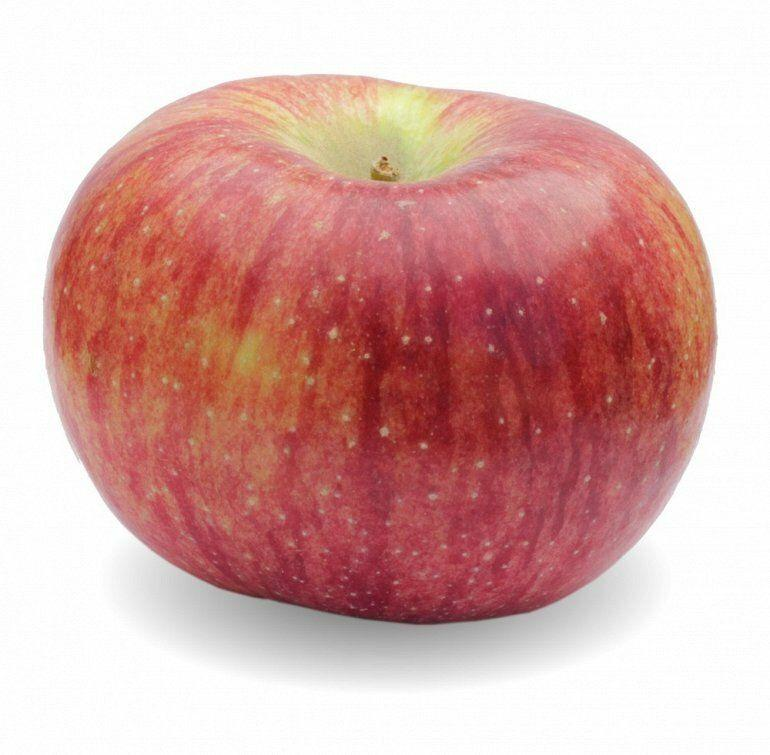Apple: (44, 75, 718, 618)
